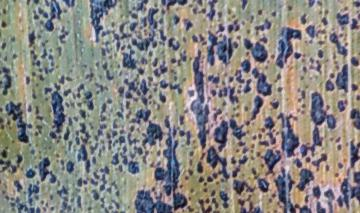tarspot: (153, 114, 187, 213), (299, 91, 337, 156), (189, 48, 211, 150), (132, 6, 159, 54), (87, 1, 117, 44), (274, 25, 303, 69), (205, 28, 238, 66), (277, 111, 300, 157), (4, 100, 28, 143), (133, 188, 174, 213), (273, 168, 295, 213), (206, 146, 230, 182), (241, 36, 270, 63), (50, 82, 65, 134), (43, 1, 67, 32), (251, 67, 273, 98), (140, 120, 164, 148), (328, 32, 350, 57), (263, 147, 281, 177), (296, 166, 315, 194), (213, 120, 229, 152), (335, 63, 350, 95), (120, 43, 137, 71), (100, 29, 120, 52), (229, 116, 247, 140), (263, 115, 277, 145), (339, 176, 351, 211), (347, 138, 360, 169), (232, 179, 254, 197), (130, 108, 152, 124), (350, 170, 360, 205), (77, 121, 92, 144), (37, 156, 50, 182), (117, 19, 133, 40), (251, 95, 263, 123), (311, 153, 328, 171), (253, 17, 272, 33), (205, 1, 220, 21), (123, 77, 138, 97), (323, 188, 335, 213), (308, 56, 323, 75), (335, 11, 349, 31), (227, 84, 240, 105), (160, 1, 189, 10), (349, 108, 360, 131), (226, 18, 241, 34), (14, 195, 27, 213), (257, 177, 270, 195), (315, 28, 328, 46), (77, 143, 88, 164), (2, 74, 12, 97), (167, 36, 180, 53), (219, 189, 230, 209), (293, 202, 313, 213), (132, 1, 150, 13), (197, 197, 210, 213), (240, 58, 252, 75), (98, 103, 108, 123), (139, 77, 150, 95), (126, 161, 140, 175), (181, 17, 194, 32), (56, 186, 69, 201), (336, 98, 349, 113), (103, 39, 115, 55), (92, 82, 108, 94), (234, 68, 246, 84), (26, 30, 36, 49), (169, 82, 183, 95), (27, 182, 40, 196), (118, 150, 128, 168), (158, 60, 170, 75), (304, 24, 316, 39), (157, 88, 168, 104), (99, 172, 107, 194), (236, 197, 247, 213), (311, 185, 322, 201), (331, 50, 339, 72), (245, 194, 254, 213), (212, 106, 222, 123), (60, 1, 81, 9), (40, 38, 48, 59), (126, 133, 140, 145), (1, 159, 12, 174), (84, 67, 95, 82), (12, 178, 23, 193), (349, 17, 360, 32), (206, 73, 220, 84), (324, 78, 335, 92), (298, 11, 308, 26), (48, 169, 58, 183), (33, 123, 43, 137), (244, 79, 253, 94), (138, 15, 147, 30), (76, 82, 83, 101), (215, 22, 226, 34), (110, 198, 121, 210), (315, 201, 326, 213), (349, 56, 360, 68), (171, 13, 181, 26), (272, 71, 282, 84), (109, 178, 119, 191), (47, 53, 56, 67), (110, 152, 119, 166), (157, 28, 166, 42), (77, 108, 88, 119), (28, 49, 39, 60), (127, 151, 138, 162), (24, 169, 36, 179), (66, 159, 74, 174), (159, 77, 169, 89), (8, 163, 18, 175), (90, 188, 98, 203), (105, 68, 114, 81), (36, 33, 59, 38), (335, 194, 343, 208), (85, 100, 95, 111), (62, 87, 72, 98), (240, 1, 250, 12), (269, 100, 280, 110), (186, 87, 196, 98), (139, 54, 149, 65), (237, 155, 248, 165), (218, 86, 228, 97), (111, 118, 121, 129), (210, 197, 220, 208), (31, 9, 40, 21), (116, 85, 125, 97), (89, 142, 98, 154), (63, 126, 70, 141), (232, 166, 240, 179), (185, 129, 191, 146), (83, 90, 93, 100), (133, 145, 143, 155), (89, 177, 99, 187), (293, 157, 302, 168), (316, 48, 325, 59), (196, 160, 203, 174), (98, 196, 105, 210), (76, 193, 83, 207), (57, 33, 65, 45), (129, 21, 137, 33), (190, 6, 198, 18), (67, 139, 73, 155), (55, 45, 62, 58), (97, 166, 110, 173), (43, 85, 52, 95), (293, 51, 303, 60), (128, 11, 138, 20), (190, 33, 199, 43), (139, 95, 148, 105), (102, 60, 110, 71), (15, 153, 23, 164), (150, 39, 158, 50), (30, 60, 42, 67), (178, 114, 185, 126), (256, 140, 270, 146), (59, 158, 65, 172), (48, 131, 57, 140), (57, 75, 66, 84), (136, 66, 145, 75), (186, 168, 195, 177), (75, 178, 84, 187), (227, 75, 235, 85), (123, 110, 131, 120), (336, 161, 344, 171), (31, 87, 37, 100), (98, 123, 109, 130), (250, 165, 257, 176), (304, 193, 311, 204), (324, 162, 331, 173), (306, 1, 317, 8), (85, 159, 90, 174), (9, 34, 17, 43), (2, 66, 11, 74), (75, 101, 84, 109), (64, 75, 73, 83), (105, 97, 114, 105), (241, 145, 249, 154), (258, 126, 266, 135), (115, 110, 123, 119), (91, 134, 100, 142), (186, 204, 194, 213), (350, 83, 359, 91), (1, 19, 8, 29), (38, 73, 45, 83), (121, 145, 128, 155), (152, 67, 159, 77), (151, 57, 158, 67), (237, 139, 247, 146), (230, 155, 237, 165), (209, 88, 216, 98), (119, 124, 126, 134), (112, 138, 119, 148), (61, 201, 68, 211), (24, 75, 30, 86), (100, 47, 106, 58), (34, 115, 45, 121), (176, 56, 182, 67), (125, 99, 131, 110), (27, 196, 33, 207), (192, 1, 205, 6), (71, 114, 79, 122), (47, 46, 55, 54), (47, 67, 55, 75), (4, 118, 12, 126), (197, 7, 205, 15), (92, 171, 100, 179), (320, 17, 328, 25), (352, 1, 360, 9), (182, 107, 190, 115), (1, 41, 8, 50), (216, 10, 223, 19), (301, 65, 308, 74), (1, 149, 8, 158), (160, 7, 167, 16), (199, 151, 206, 160), (29, 147, 36, 156), (118, 135, 125, 144), (110, 129, 117, 138), (105, 186, 112, 195), (34, 105, 40, 115), (110, 19, 116, 29), (71, 90, 76, 102), (91, 155, 97, 165), (249, 15, 255, 25), (129, 124, 135, 134), (107, 139, 112, 151), (300, 89, 306, 99), (42, 11, 49, 19), (29, 70, 37, 77), (63, 100, 70, 108), (286, 4, 293, 12), (94, 61, 101, 69), (197, 174, 204, 182), (206, 175, 213, 183), (212, 172, 219, 180), (178, 129, 185, 137), (151, 86, 158, 94), (170, 68, 178, 75), (181, 76, 189, 83), (35, 205, 42, 213), (8, 201, 16, 208), (67, 116, 72, 127), (119, 44, 128, 50), (118, 164, 124, 173), (181, 35, 187, 44), (158, 17, 164, 26), (236, 33, 242, 42), (189, 149, 195, 158), (156, 149, 162, 158), (149, 159, 155, 168), (74, 136, 80, 145), (210, 188, 216, 197), (115, 190, 121, 199), (323, 8, 329, 17), (31, 1, 41, 6), (27, 103, 32, 113), (43, 1, 50, 8), (11, 53, 18, 60), (2, 55, 9, 62), (277, 86, 284, 93), (170, 57, 177, 64), (230, 13, 237, 20), (199, 35, 206, 42), (263, 64, 270, 71), (243, 119, 250, 126), (183, 174, 190, 181), (56, 134, 63, 141), (96, 129, 103, 136), (342, 5, 349, 12), (317, 1, 324, 8), (2, 7, 8, 15), (37, 6, 43, 14), (27, 122, 33, 130), (299, 74, 305, 82), (269, 53, 275, 61), (187, 194, 193, 202), (87, 205, 93, 213), (27, 207, 35, 213), (328, 71, 334, 79), (257, 8, 262, 17), (243, 104, 248, 113), (98, 149, 102, 160), (25, 1, 31, 8), (270, 10, 276, 17), (147, 75, 153, 82), (304, 155, 310, 162), (240, 19, 247, 25), (132, 96, 138, 103), (147, 100, 153, 107), (147, 93, 153, 100), (236, 88, 242, 95), (99, 139, 106, 145), (202, 186, 208, 193), (107, 204, 114, 210), (69, 197, 76, 203), (253, 206, 259, 213), (270, 192, 276, 199), (337, 144, 343, 151), (335, 136, 341, 143), (318, 9, 324, 16), (308, 38, 314, 45), (303, 38, 309, 45), (226, 7, 231, 15), (182, 54, 187, 62), (155, 102, 160, 110), (255, 150, 260, 158), (75, 130, 80, 138), (105, 131, 110, 139), (80, 63, 88, 68), (49, 193, 54, 201), (82, 179, 88, 185), (234, 112, 240, 118), (100, 145, 106, 151), (202, 181, 208, 187), (204, 198, 210, 204), (212, 209, 221, 213), (9, 195, 15, 201), (329, 136, 335, 142), (251, 134, 256, 141), (257, 132, 262, 139), (173, 75, 178, 82), (188, 159, 193, 166), (156, 160, 161, 167), (178, 183, 183, 190), (189, 187, 194, 194), (214, 179, 219, 186), (40, 199, 45, 206), (50, 205, 55, 212), (104, 206, 109, 213), (4, 194, 9, 201), (297, 97, 302, 104), (357, 10, 360, 21), (1, 124, 5, 132), (151, 82, 159, 86), (110, 209, 118, 213), (218, 32, 224, 37), (237, 84, 243, 89), (191, 139, 197, 144), (220, 177, 225, 183), (301, 103, 306, 109), (300, 109, 305, 115), (268, 197, 273, 203), (200, 41, 207, 45), (245, 50, 249, 57), (246, 28, 250, 35), (1, 158, 5, 165), (356, 94, 360, 101), (118, 210, 127, 213), (188, 56, 193, 61), (1, 189, 6, 194), (182, 49, 186, 55), (296, 88, 302, 92), (1, 107, 4, 114), (1, 116, 4, 123), (55, 152, 58, 159), (266, 60, 271, 64), (58, 210, 64, 213), (1, 79, 3, 85), (11, 1, 17, 3), (1, 69, 2, 74)
